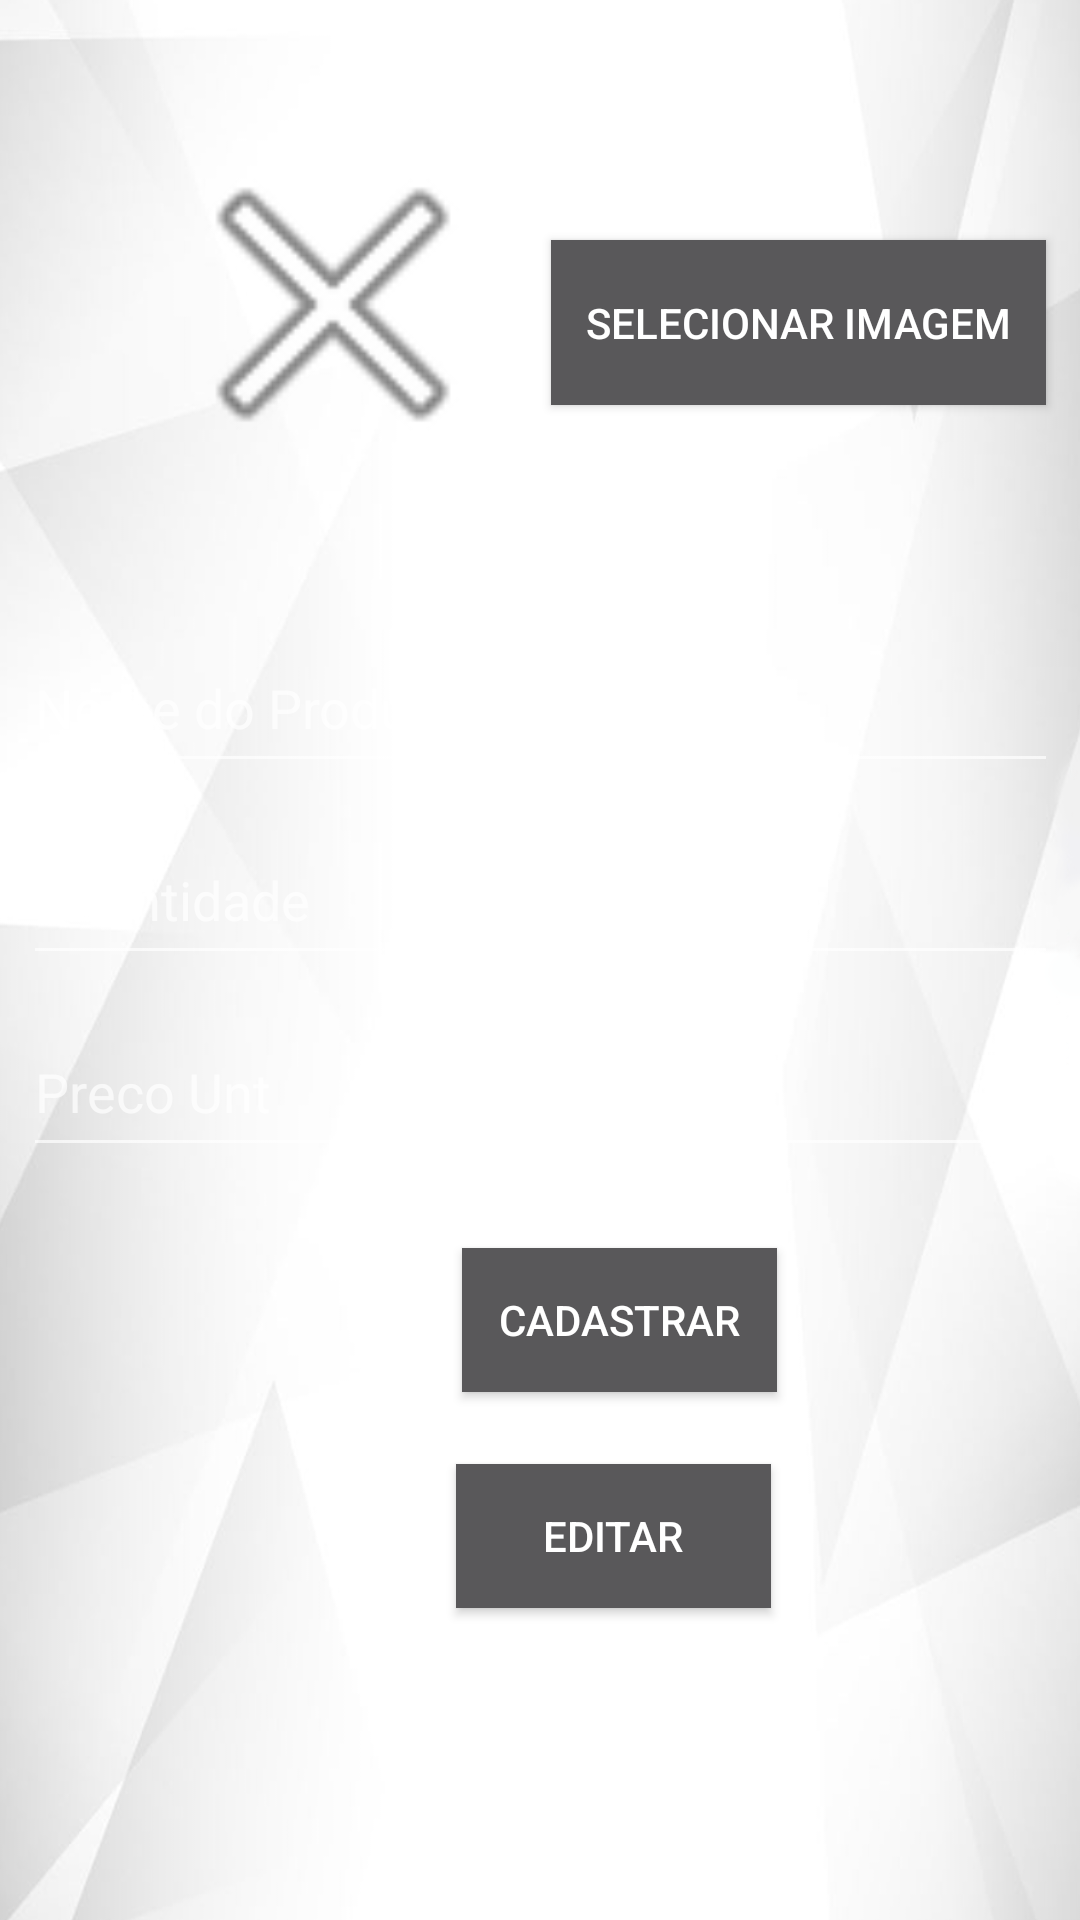

Icon bounding boxes for this 1080*1920 phone screenshot, format rect(x1, y1, x2, y2):
close clear cancel: rect(217, 189, 449, 421)
